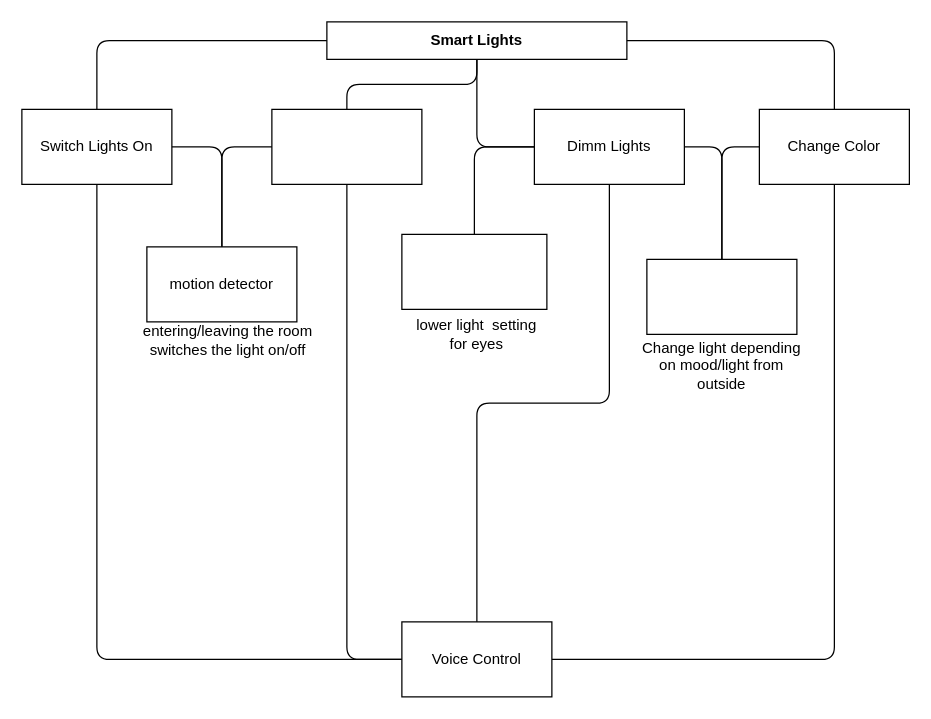
This 931x719 diagram has some shape labels left out. The centre of each missing label's shape, as x and y in pixels:
"environmental changes" belongs at point (721, 296).
"Switch Lights Off" belongs at point (346, 146).
"Time" belongs at point (474, 271).
